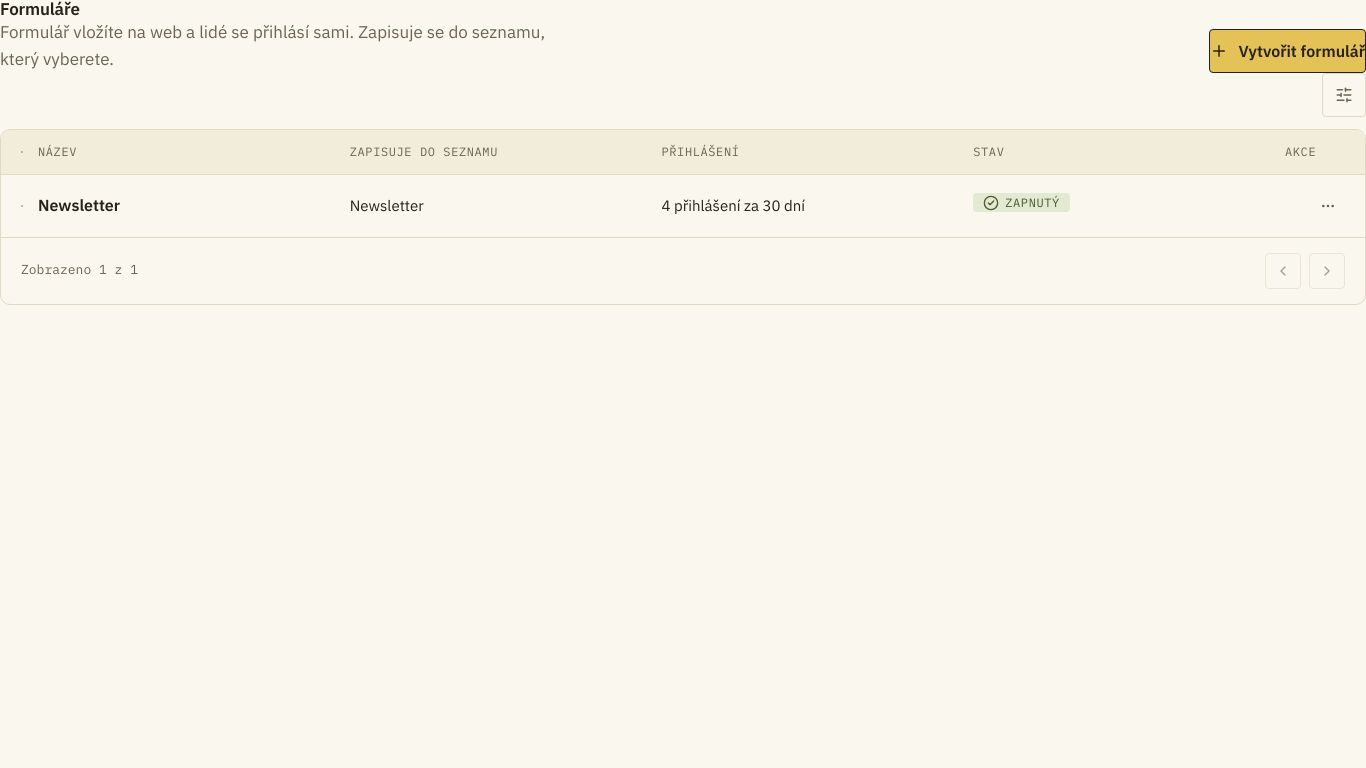
Test: FormsScreen › selhání založení řekne důvod ze serveru, ne obecnou hlášku
This screenshot has width=1366, height=768.
Click the button with test id "create-form" at (1288, 51), box [1209,29,1365,73]
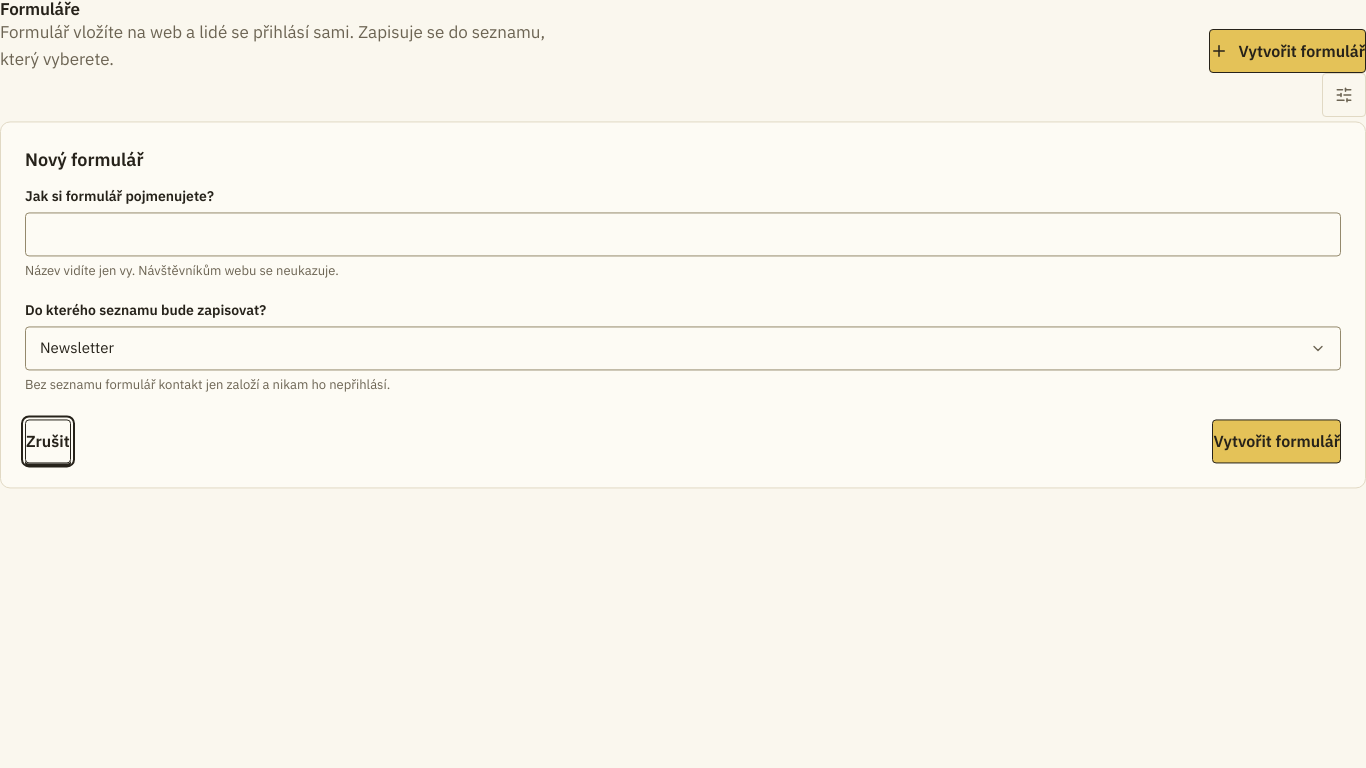
Type "Patička webu" into the field with test id "form-name" at (683, 234), box [25,212,1341,256]
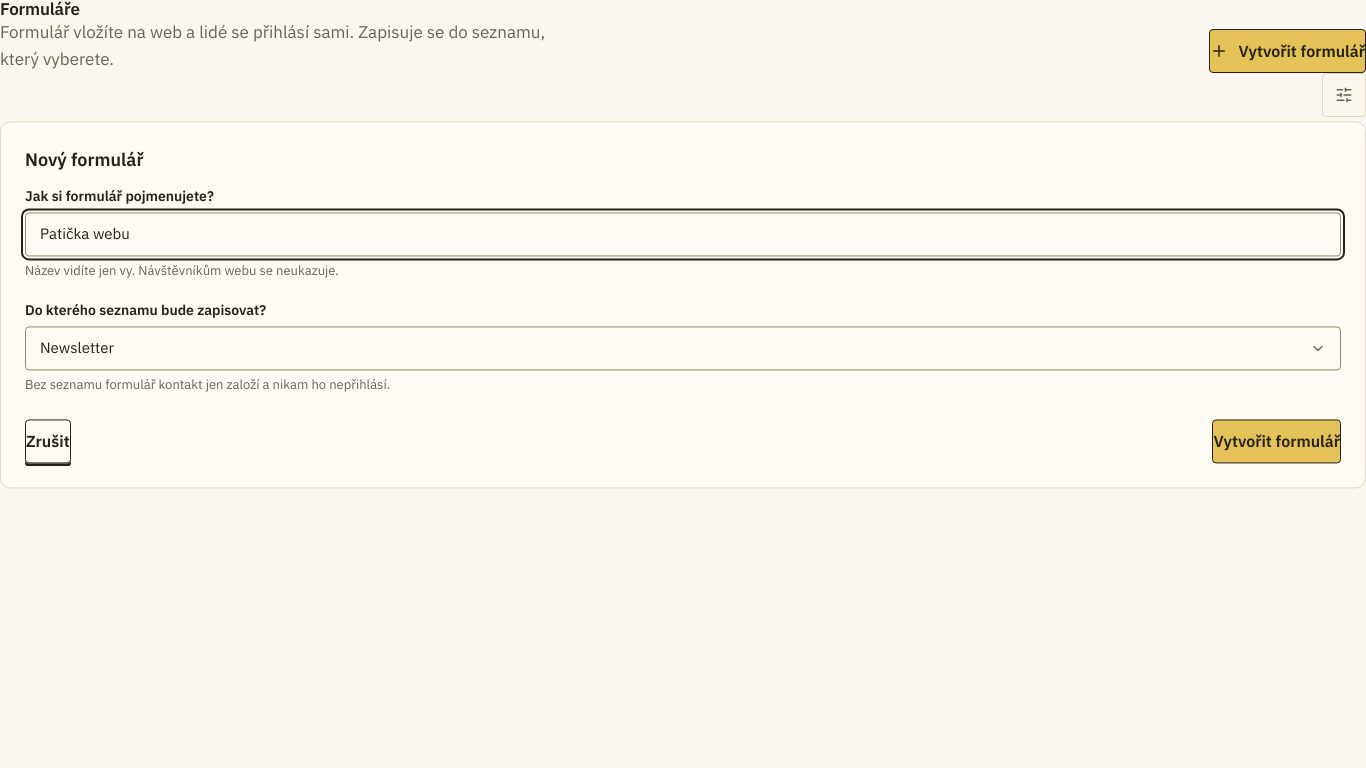
Click the button with test id "create-form-submit" at (1277, 441), box [1212,419,1341,463]
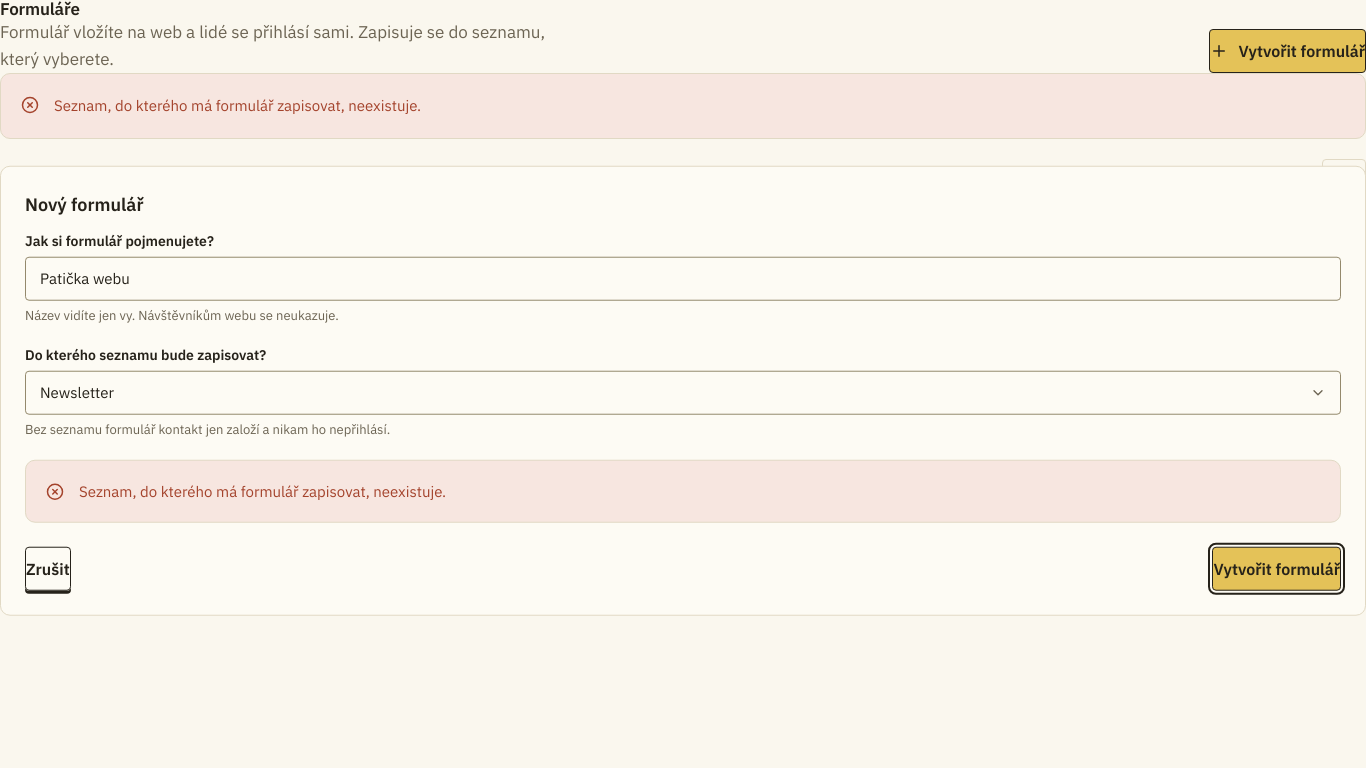
Expected: the message with test id "forms-error" reads "Seznam, do kterého má formulář zapisovat, neexistuje.", [54,96,421,115]
